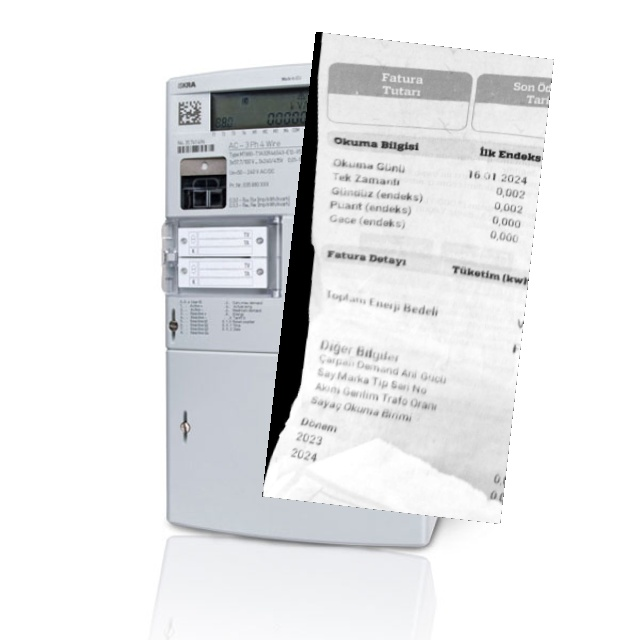electricity-bill: (262, 32, 554, 524)
